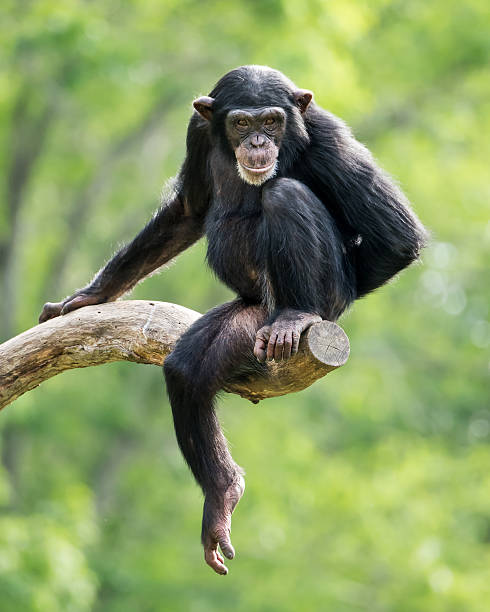chimpanzee: (185, 55, 337, 208)
